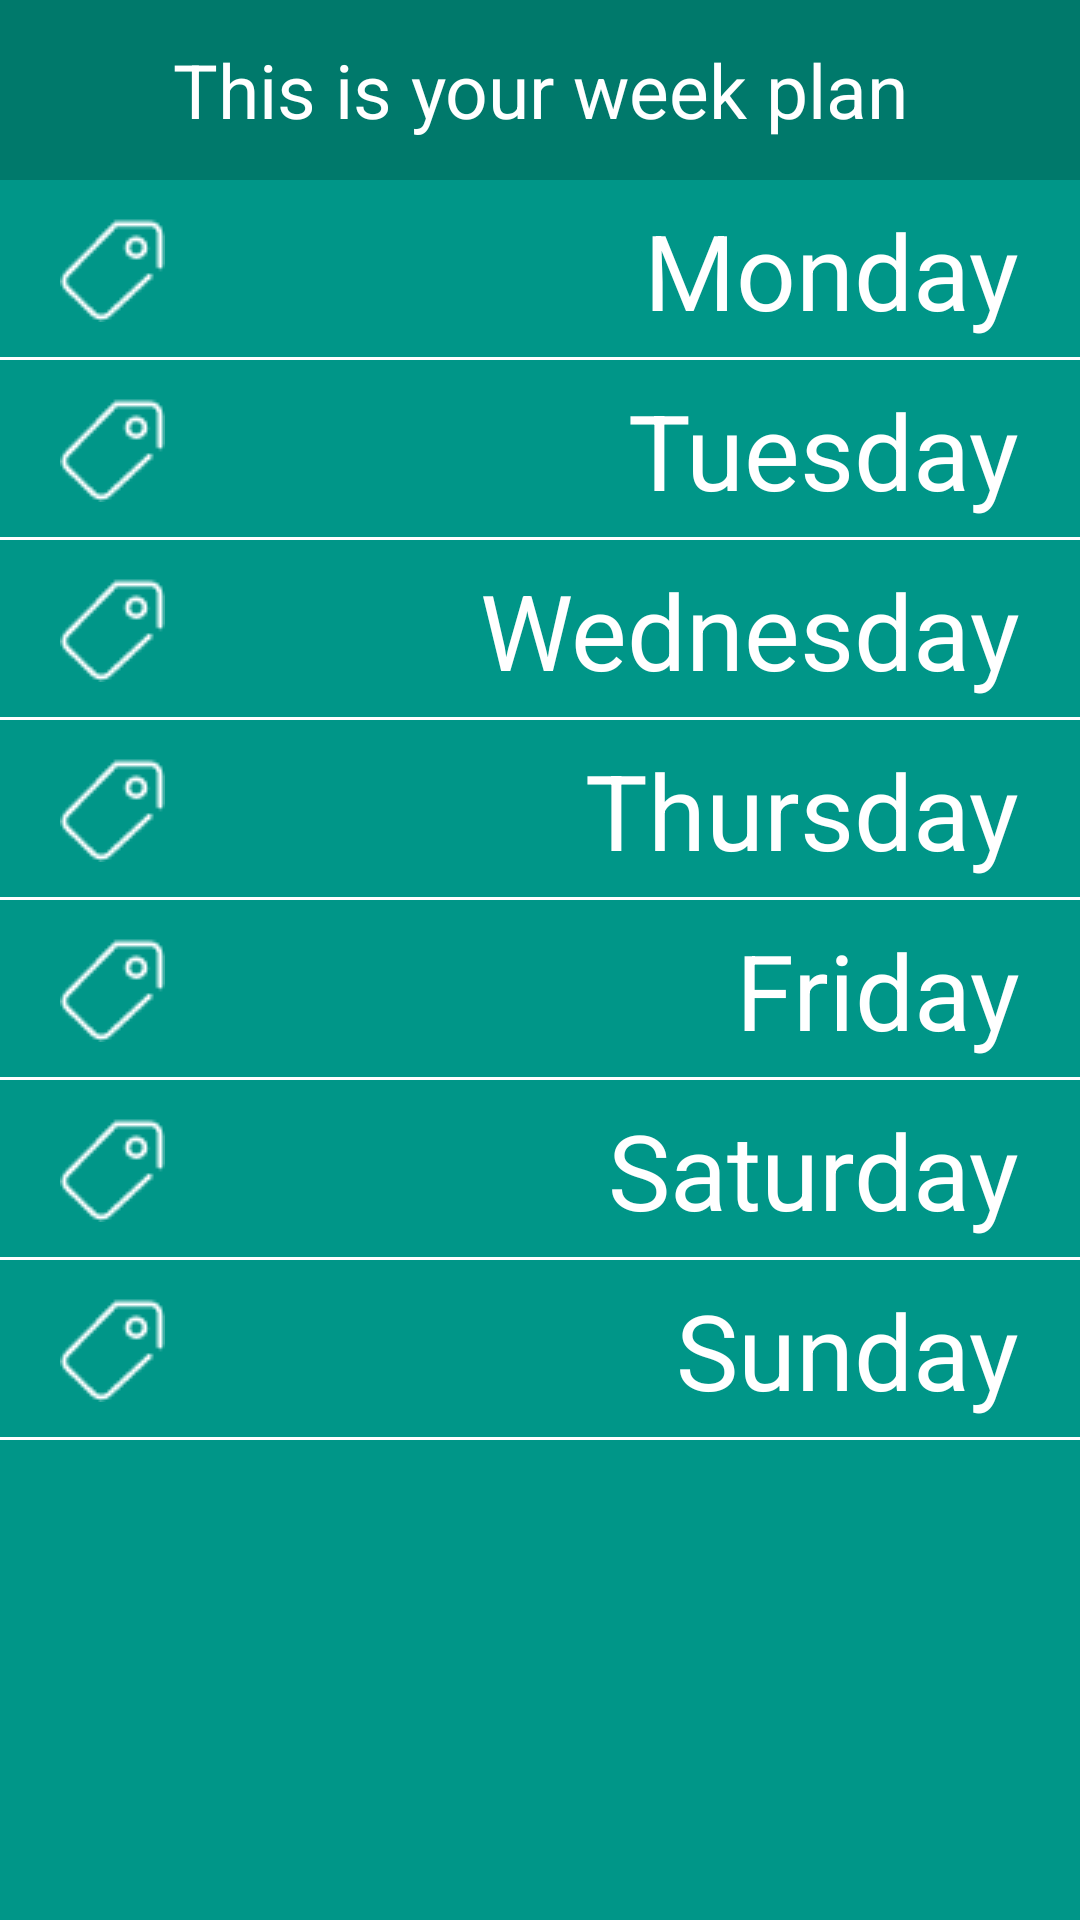

Screen size 1080 x 1920. Icon name, then its box in pixels as detection(x1, y1, x2, y2):
discount: detection(60, 219, 165, 322), detection(60, 399, 165, 502), detection(60, 579, 165, 682), detection(60, 759, 165, 862), detection(60, 939, 165, 1042), detection(60, 1119, 165, 1222), detection(60, 1299, 165, 1402)
